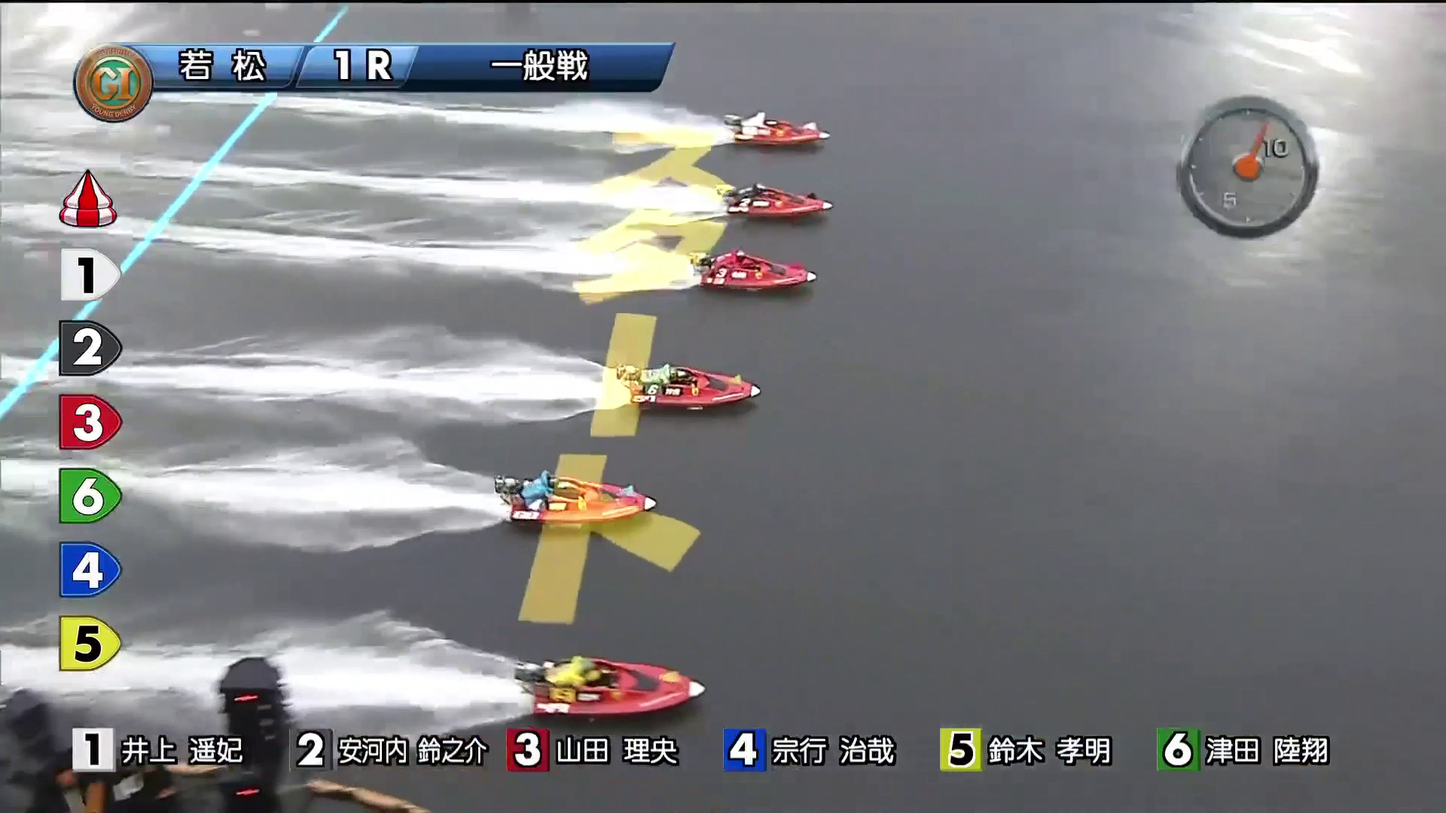１号艇: (758, 109, 817, 155)
２号艇: (726, 188, 829, 226)
３号艇: (697, 255, 823, 296)
４号艇: (654, 360, 759, 403)
５号艇: (523, 468, 643, 523)
６号艇: (531, 656, 689, 713)
